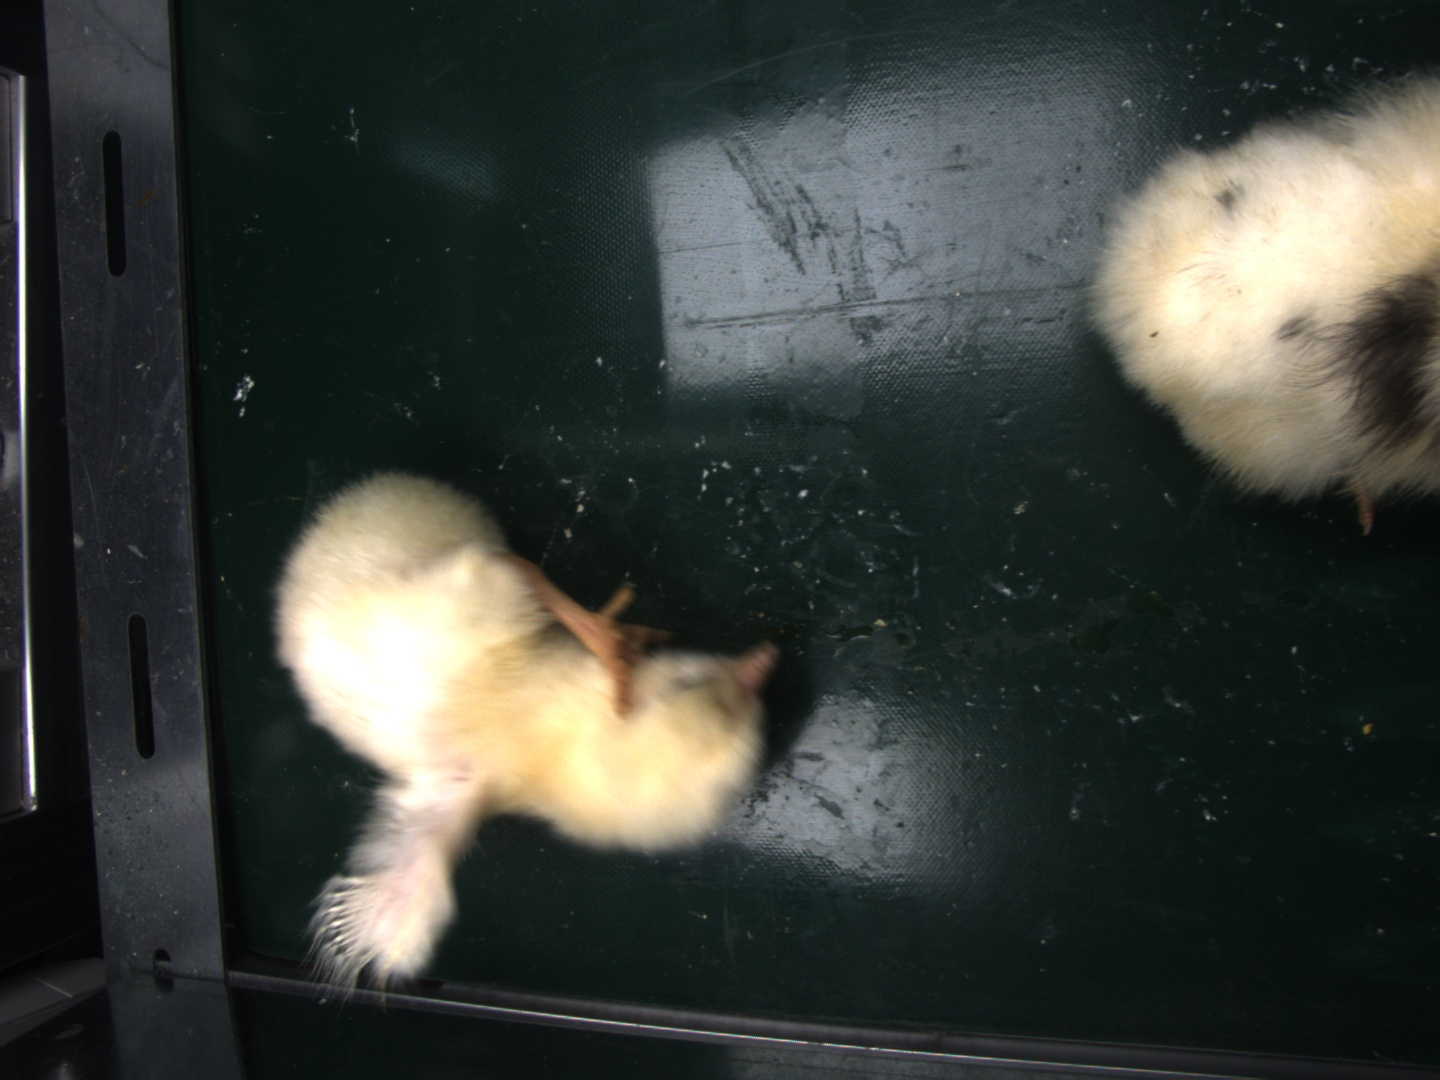male: (327, 877, 376, 968)
